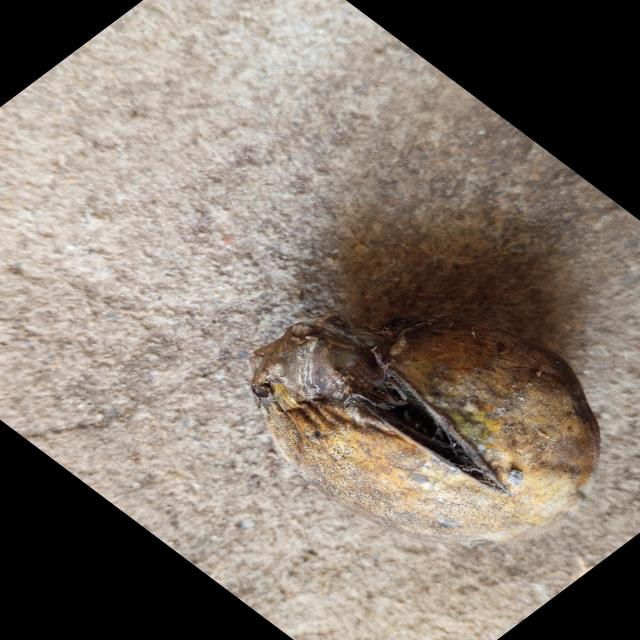damaged: (251, 315, 600, 542)
